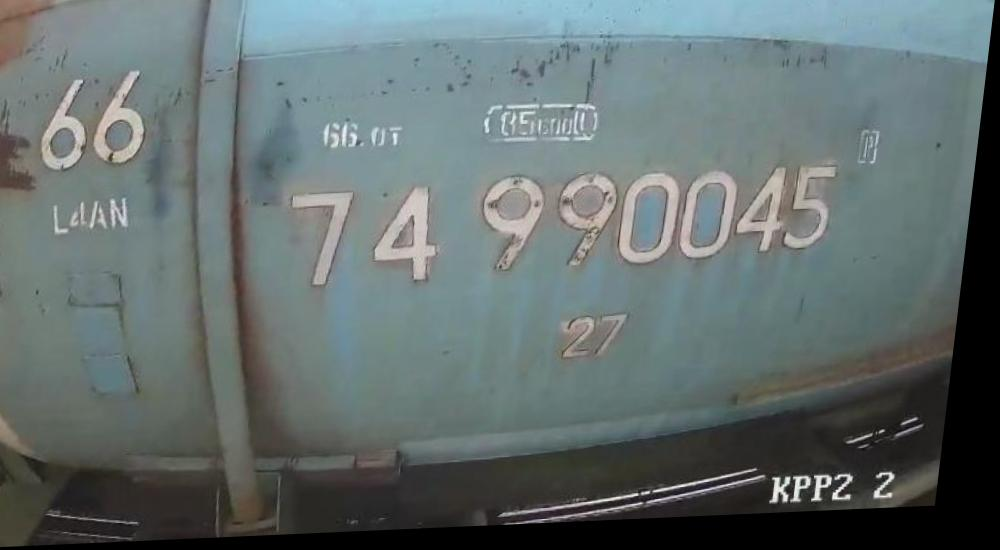Wagon-number: (278, 170, 851, 297)
